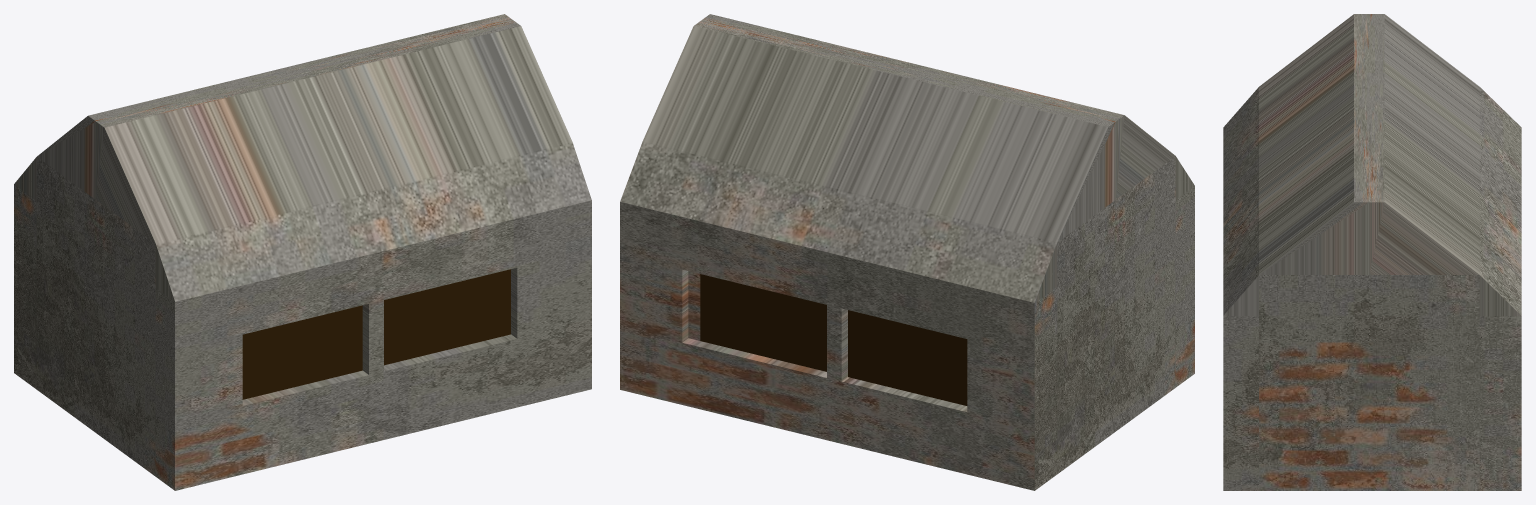
3 views of the same model, side by side, from view 1: azimuth 30°, elevation 25°; view 2: azimuth 150°, elevation 25°; view 3: azimuth 270°, elevation 25° (orthographic). The views are drawn at different scales.
Visible parts, largest first — view 1: pCube1; view 2: pCube1; view 3: pCube1.
Part boxes in pixels (x1,y1,x2,y2): pCube1: (14,14,591,490); pCube1: (620,14,1194,490); pCube1: (1223,14,1521,490).
Bounding box in the file's own units: 1292 × 923 × 865.
2 materials, 1 textured.
